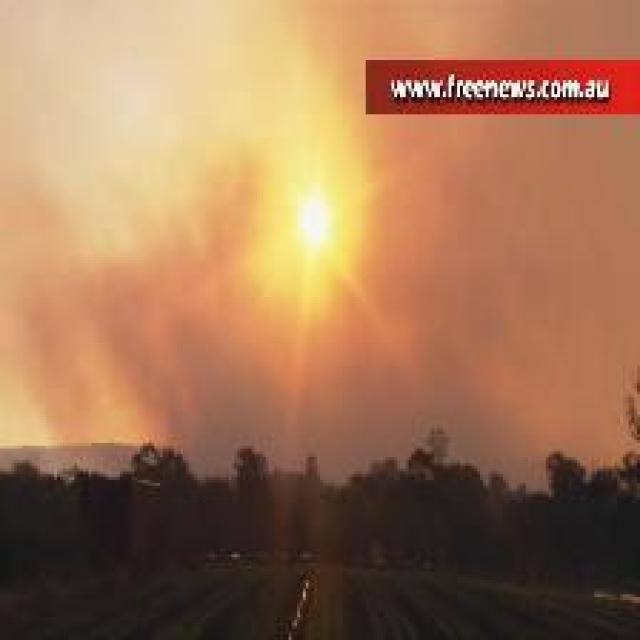other: (281, 157, 357, 287)
